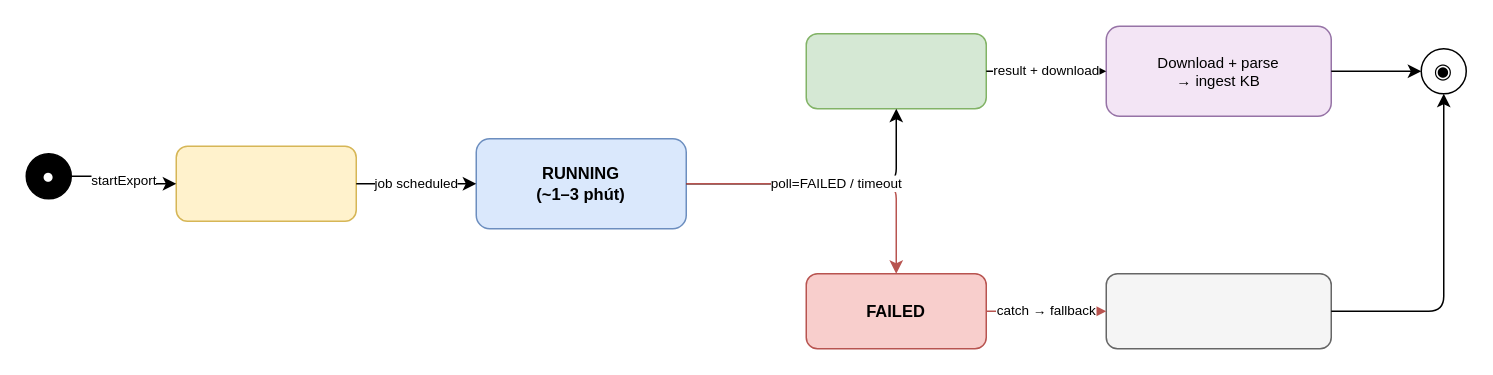
Some shapes in this 1493 by 375 pixel diagram are drawn without their labels. The shapes that lost their labels are listed below. From the top down, each one's box as (x1, y1, x2, y2) in pixels, then its label:
(805, 32, 986, 109): DONE
(175, 145, 356, 221): QUEUED
(1105, 272, 1331, 349): Fallback BFS crawl
